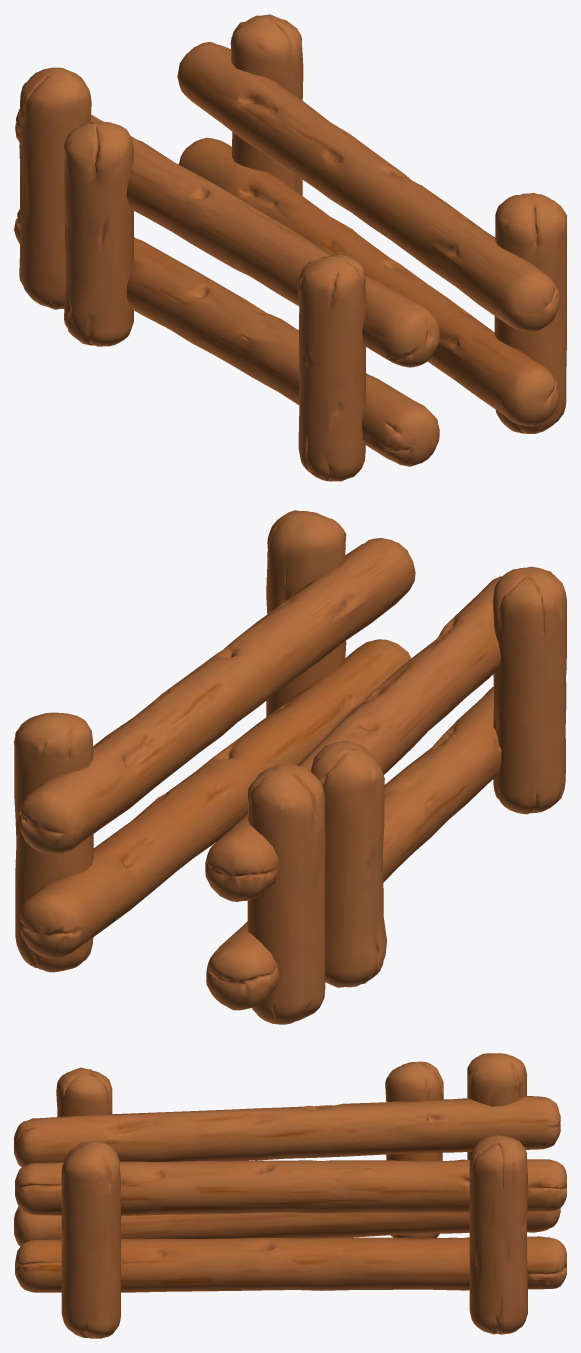
File: fence_pasture.glb
The picture shows the model from 3 angles, top to bottom: view 1: azimuth 30°, elevation 25°; view 2: azimuth 150°, elevation 25°; view 3: azimuth 270°, elevation 25°; orthographic projection. The views are drawn at different scales.
Parts seen in each view (by area): view 1: tripo_node_a0e41927-6467-45a8-83ff-d7f569cac508; view 2: tripo_node_a0e41927-6467-45a8-83ff-d7f569cac508; view 3: tripo_node_a0e41927-6467-45a8-83ff-d7f569cac508.
Boxes of the visible parts, box(x1,y1,x2,y2) form: tripo_node_a0e41927-6467-45a8-83ff-d7f569cac508: box(14, 14, 566, 481); tripo_node_a0e41927-6467-45a8-83ff-d7f569cac508: box(14, 510, 566, 1024); tripo_node_a0e41927-6467-45a8-83ff-d7f569cac508: box(14, 1053, 566, 1338).
Bounding box in the file's own units: 0.5059 × 0.3809 × 0.998.
Materials: 1 (1 with a texture image).
